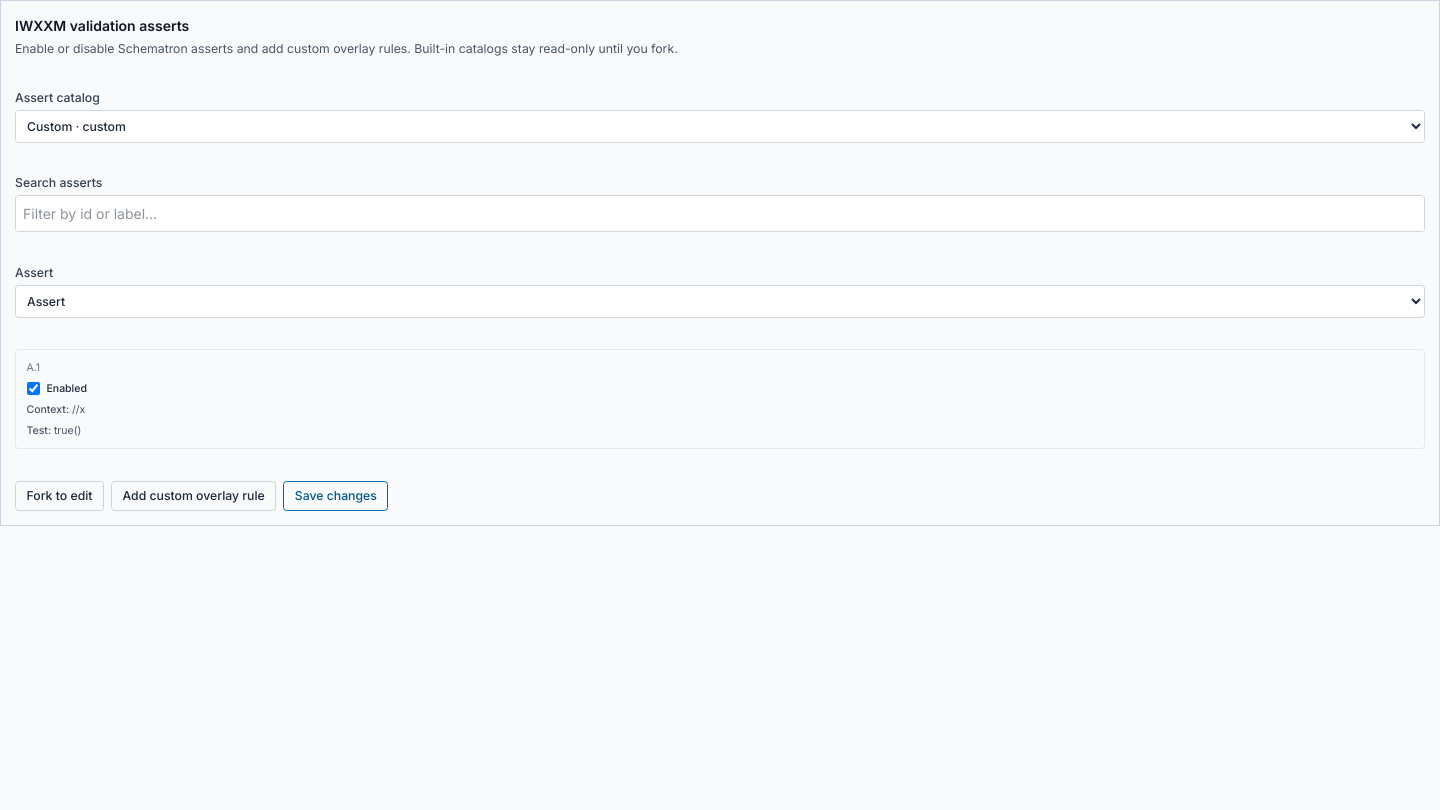
Test: EVWB P1–P4 coverage fills › covers IWXXM custom overlay edits and save/fork failures
Select "X" in the dropdown with test id "iwxxm-validation-rule-select". click: (720, 301)
box: 15,284 -> 1425,318
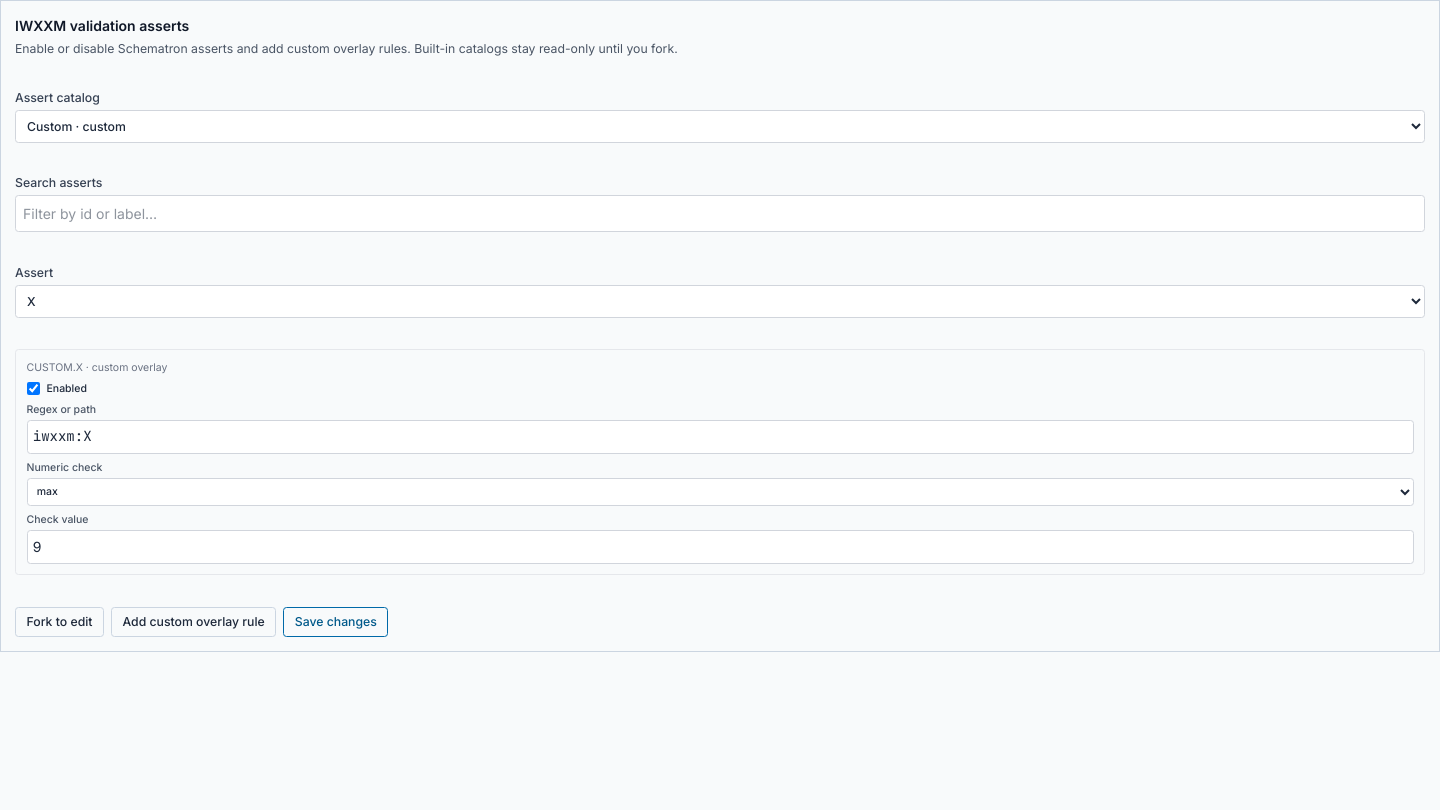
Now the field with test id "iwxxm-validation-rule-pattern" is shown
Replace the text in the field with test id "iwxxm-validation-rule-pattern" with "iwxxm:Y". click: (720, 437)
box: 26,420 -> 1414,454
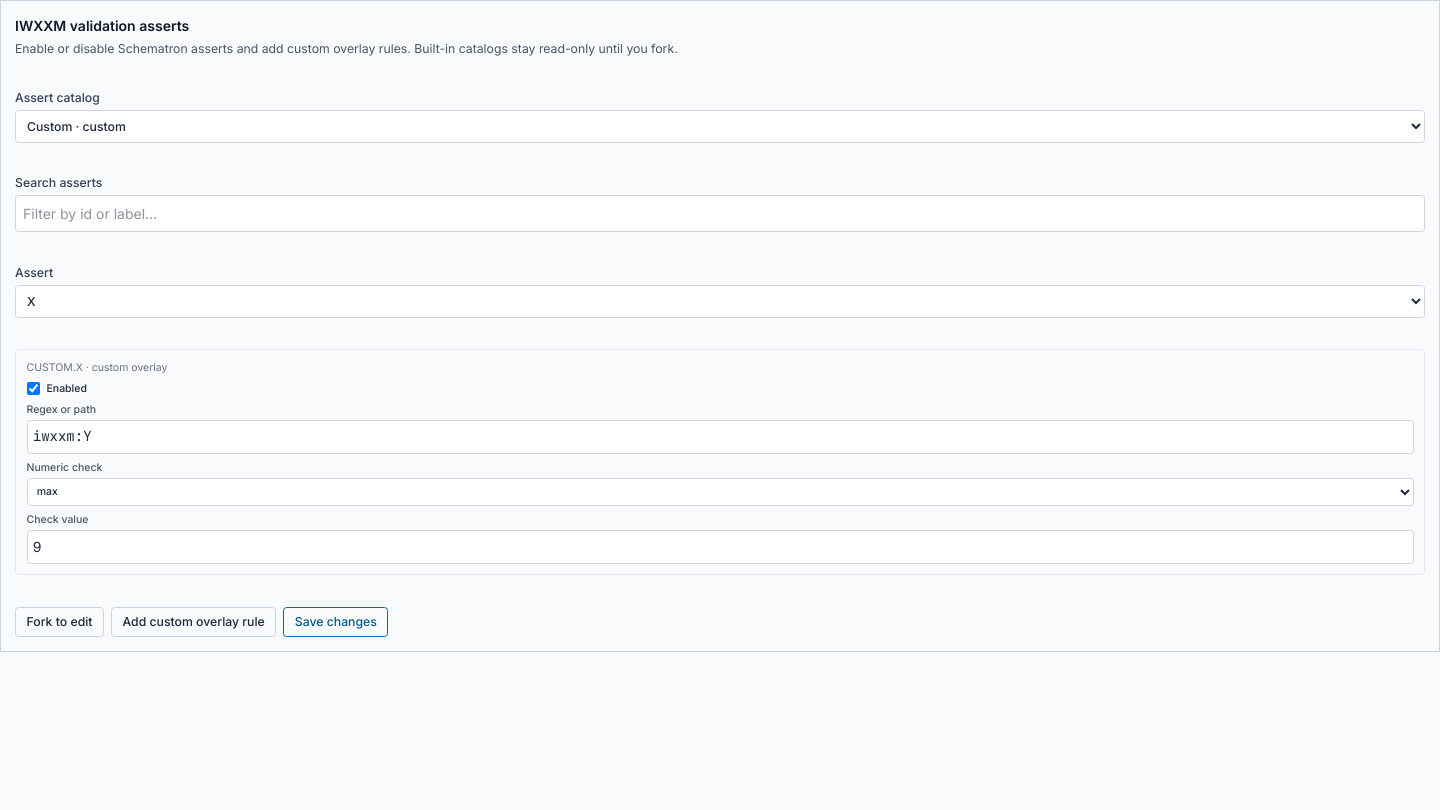
Select "min" in the dropdown with test id "iwxxm-validation-rule-check-op". click: (720, 492)
box: 26,478 -> 1414,506
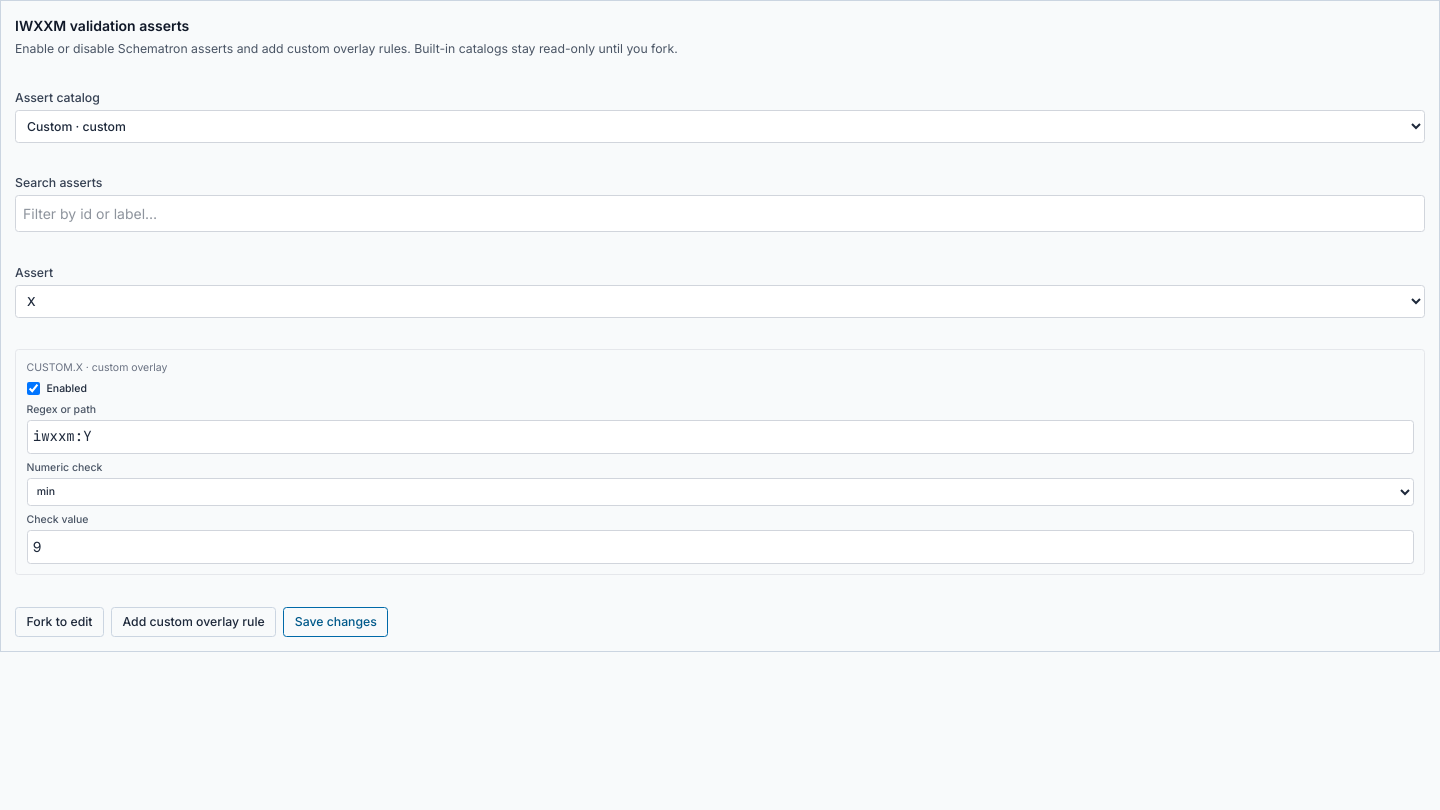
Replace the text in the field with test id "iwxxm-validation-rule-check-value" with "1". click: (720, 547)
box: 26,530 -> 1414,564
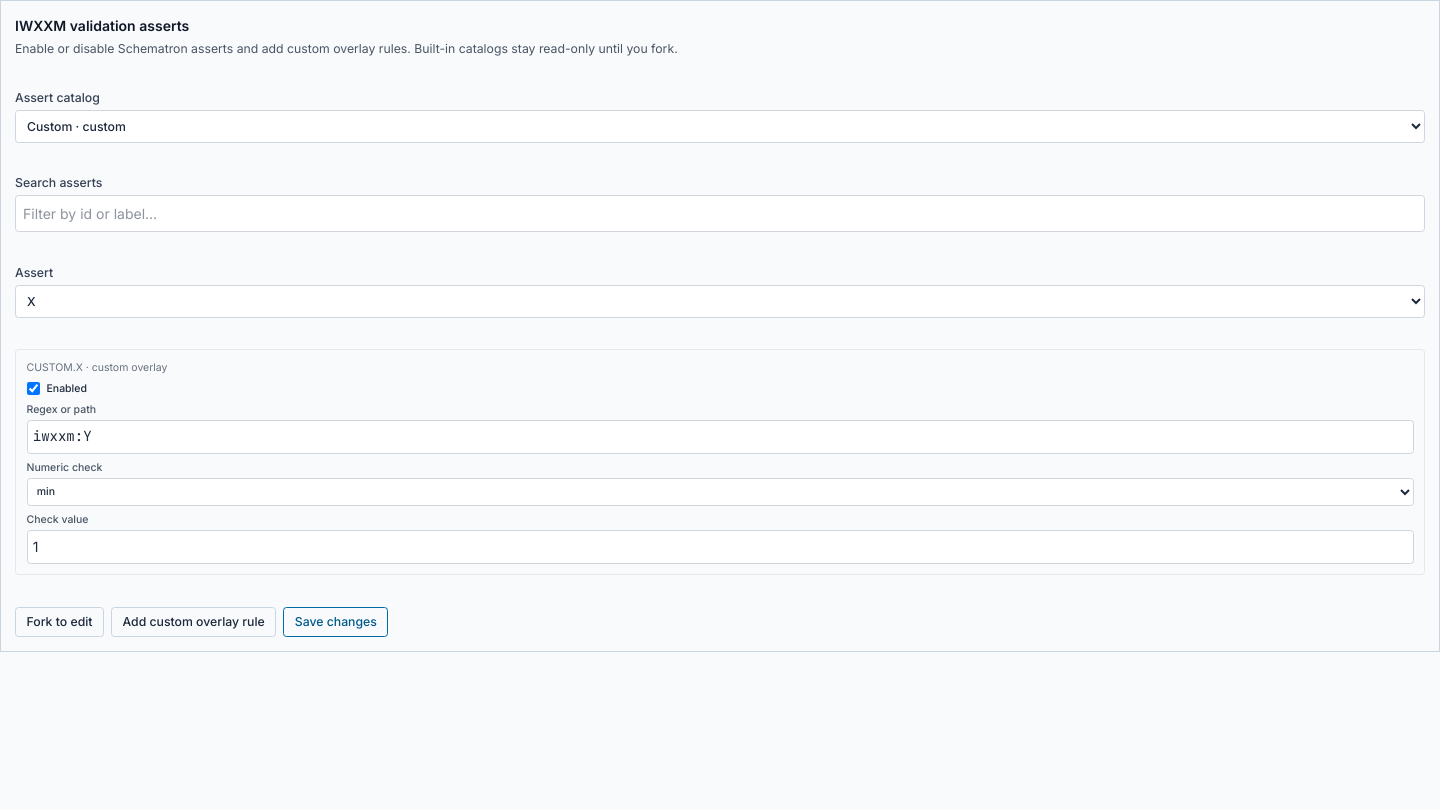
Click the button with test id "iwxxm-validation-rules-save". click: (336, 622)
box: 283,606 -> 388,636
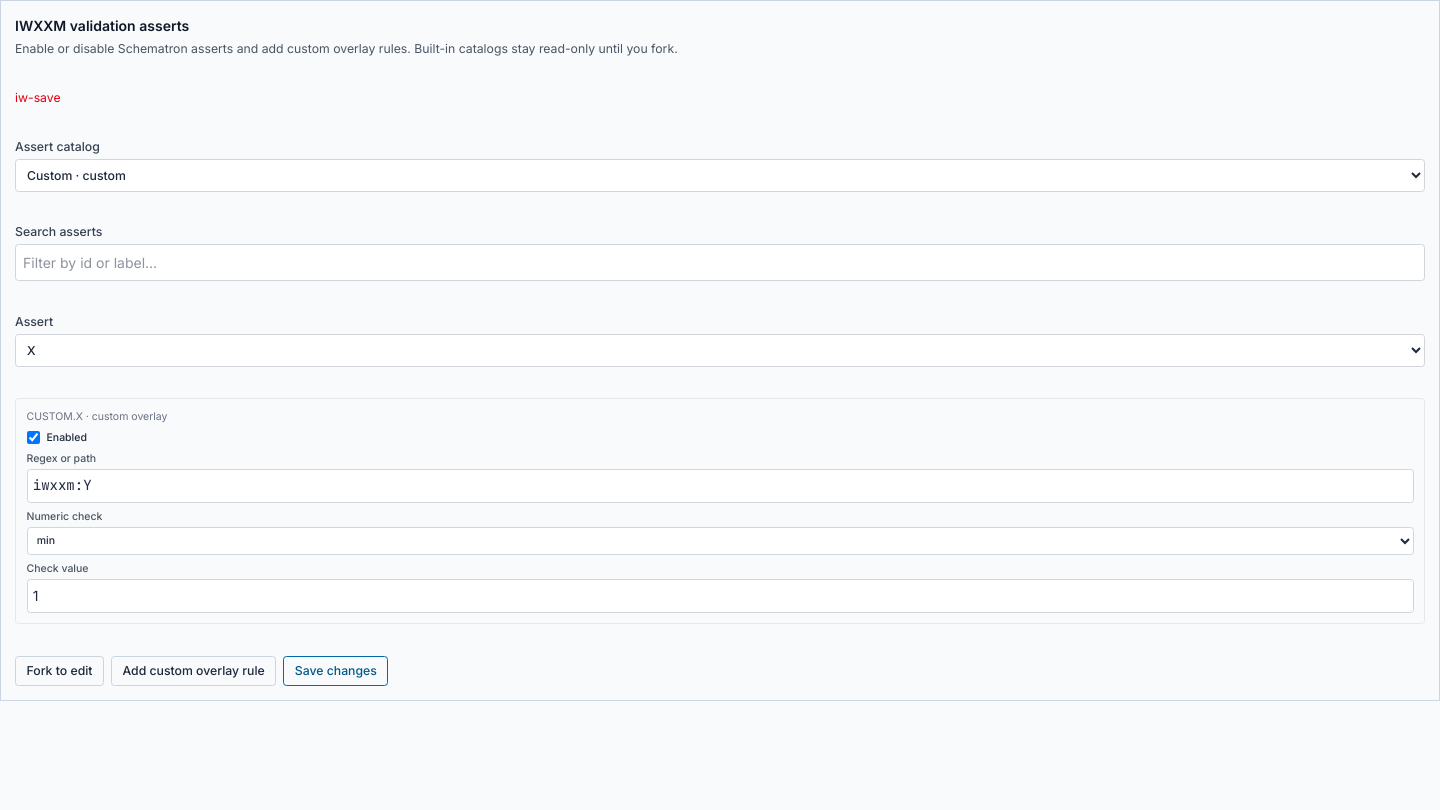
Now the text with test id "iwxxm-validation-rules-error" reads "iw-save", box 15,90 -> 61,104
Click the button with test id "iwxxm-validation-rules-fork". click: (60, 670)
box: 15,656 -> 104,686
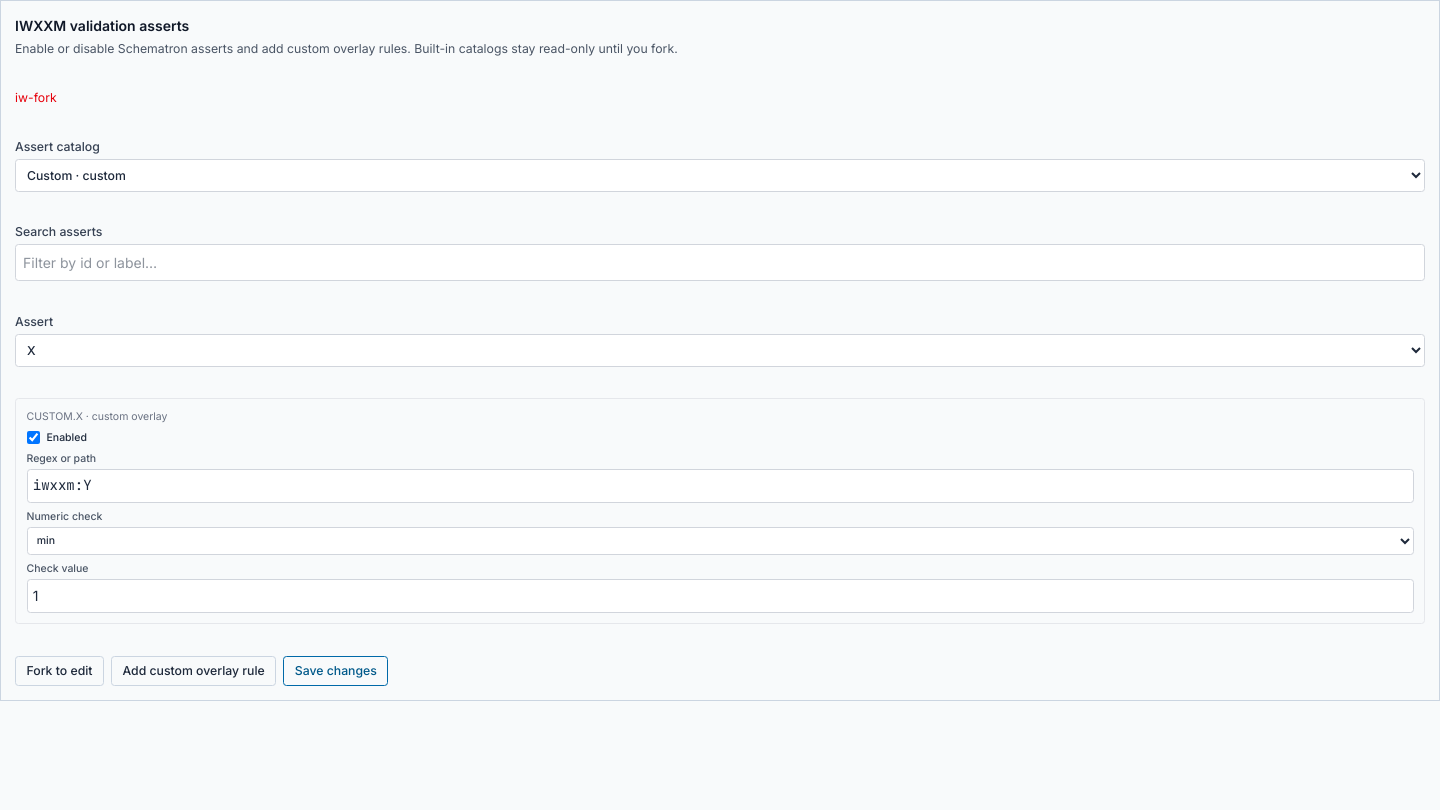
Now the text with test id "iwxxm-validation-rules-error" reads "iw-fork", box 15,90 -> 57,104
